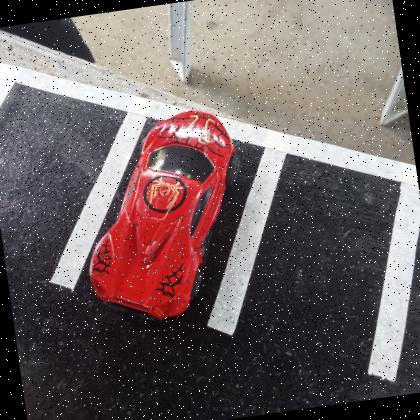Car: (85, 109, 238, 324)
